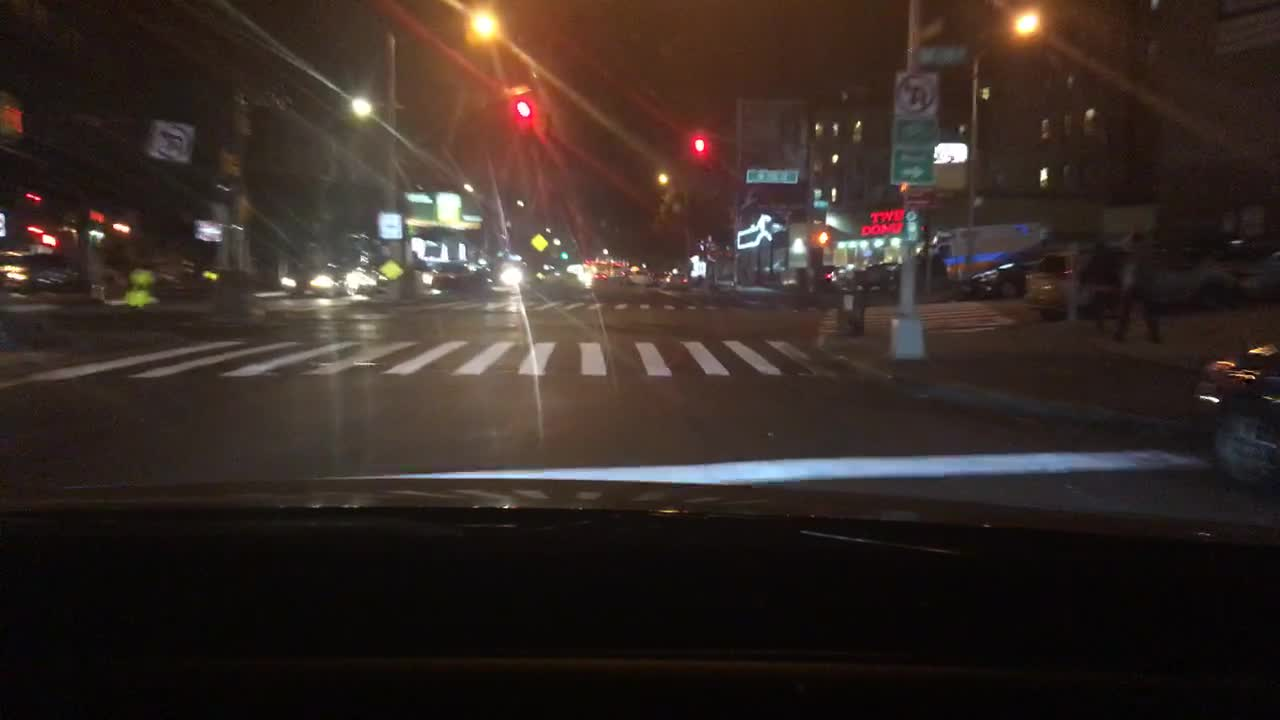car: (1029, 240, 1238, 324), (1191, 339, 1280, 494), (954, 249, 1066, 304), (0, 249, 82, 295), (278, 264, 349, 298), (426, 260, 483, 292), (484, 256, 529, 295), (850, 264, 907, 292), (794, 264, 840, 295), (340, 266, 380, 298), (659, 270, 693, 292), (629, 267, 656, 286), (609, 267, 629, 283), (589, 269, 607, 281)
person: (1115, 227, 1169, 350), (1080, 235, 1121, 332)
traffic light: (515, 94, 530, 129), (810, 230, 834, 249), (695, 132, 708, 157)
traffic sign: (148, 115, 196, 163), (896, 69, 937, 120), (893, 147, 928, 184), (916, 45, 969, 66), (894, 123, 937, 147), (744, 169, 797, 184), (375, 213, 401, 240), (196, 215, 222, 240), (377, 258, 404, 281), (532, 233, 552, 253), (813, 200, 831, 209)
